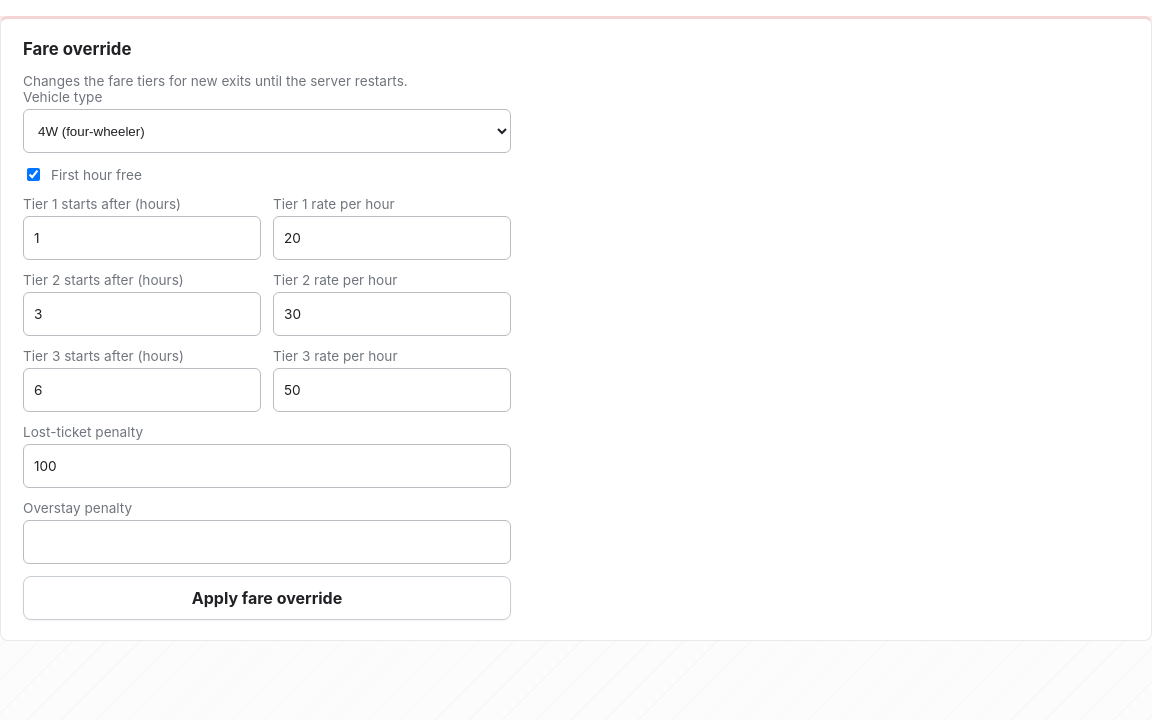
it: Fare override form (VPS-DEV-002) › sends the 4W defaults, with optional fields left out
Click the button "Apply fare override".
click(267, 598)  # box [23, 576, 511, 620]
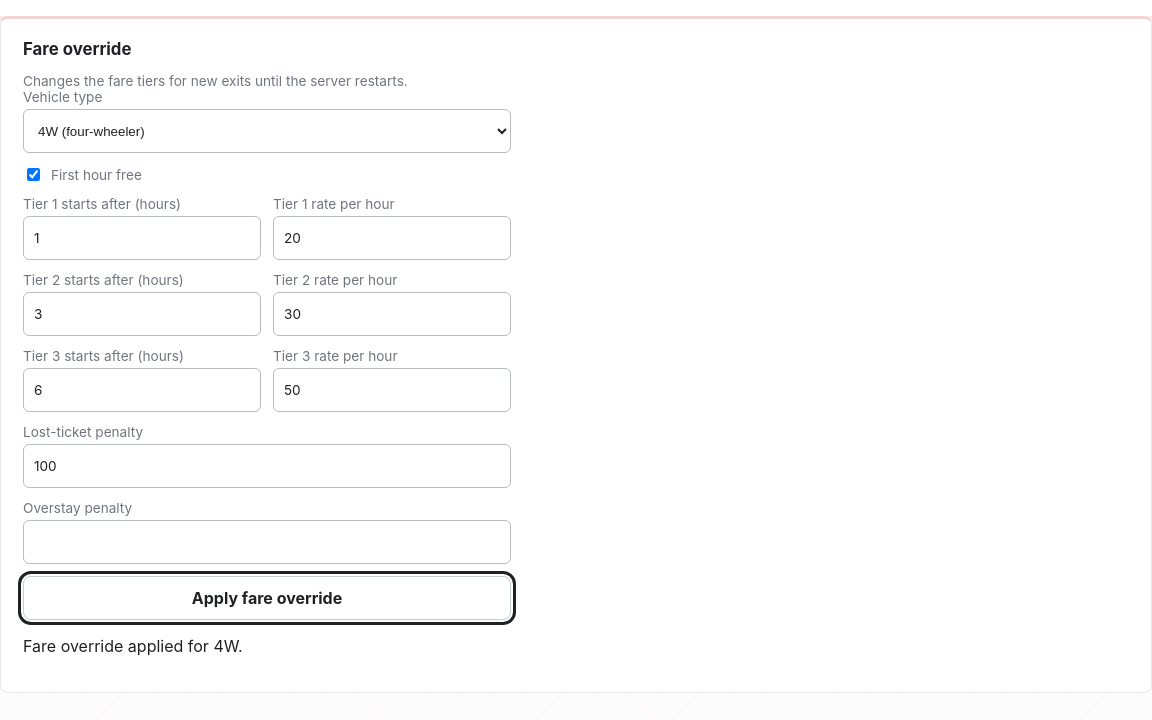
Check: the text "Fare override applied for 4W." is shown, box [23, 636, 243, 656]
